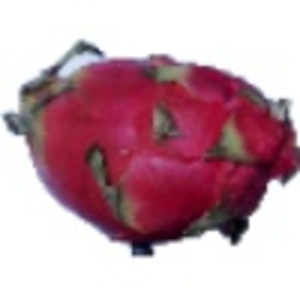pitaia: (1, 39, 300, 259)
